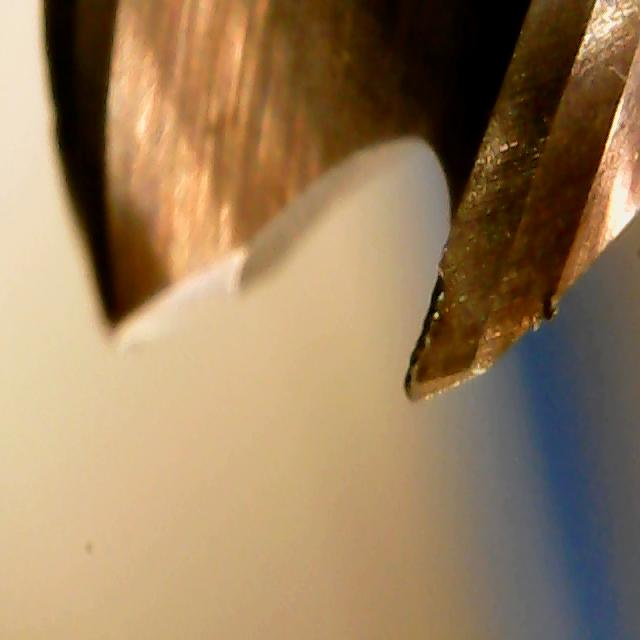Tool-wear-class-1: (401, 177, 542, 408)
